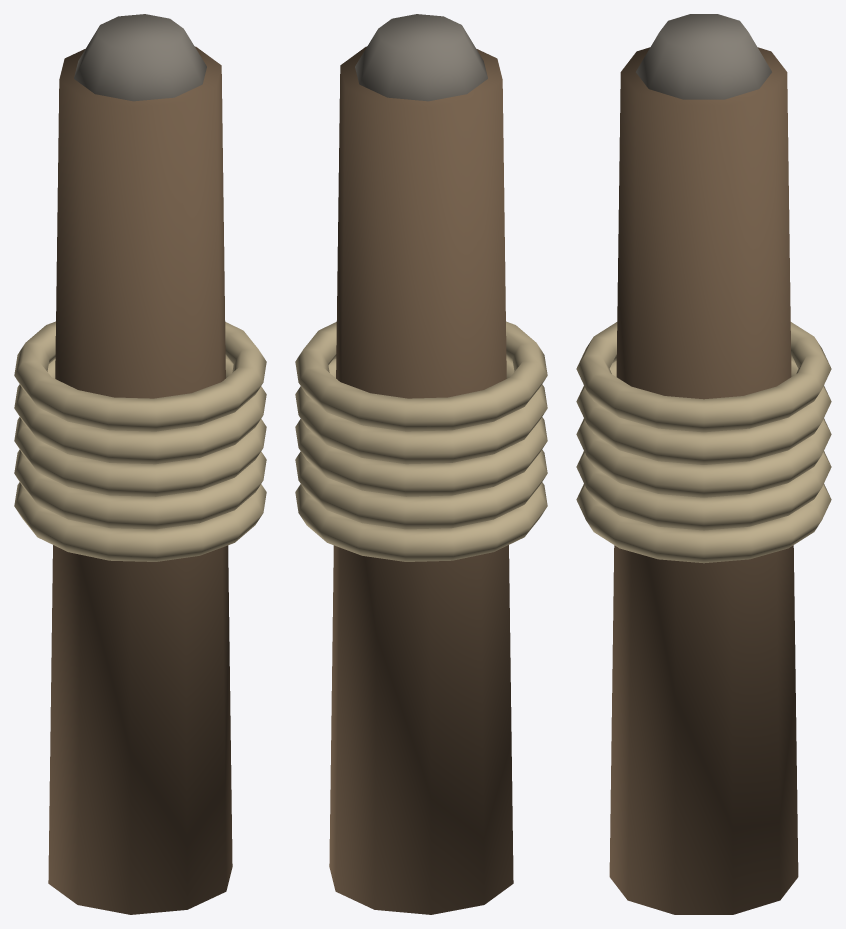
Rendered from Pier_Post.glb.
3 views of the same model, side by side, from view 1: azimuth 30°, elevation 25°; view 2: azimuth 150°, elevation 25°; view 3: azimuth 270°, elevation 25° (orthographic).
Visible parts, largest first — view 1: Pier_Post; view 2: Pier_Post; view 3: Pier_Post.
Boxes of the visible parts, left/top/right/bottom form: Pier_Post: left=14, top=14, right=266, bottom=914; Pier_Post: left=295, top=14, right=547, bottom=914; Pier_Post: left=576, top=14, right=831, bottom=914.
Size of the model in its own units: 0.46 by 1.68 by 0.46.
